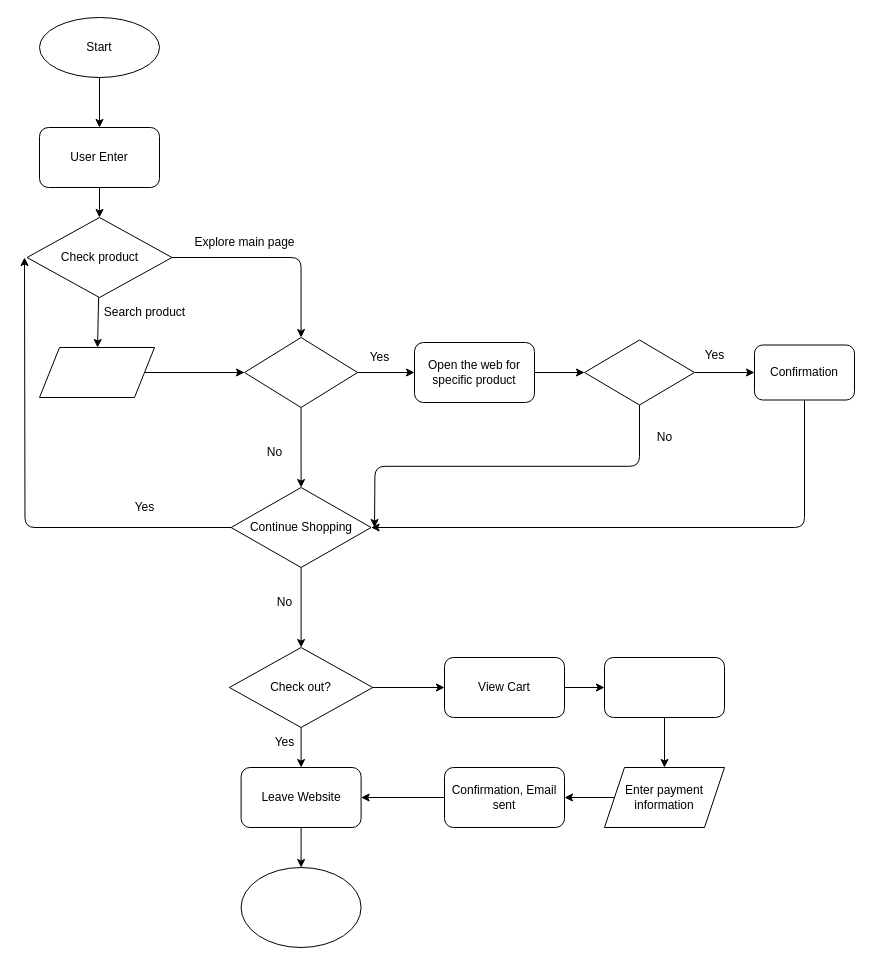
The diagram is 872 pixels wide and 965 high, and some of its shapes have lost their labels. The shapes that lost their labels are listed below. From the top down, each one's box as (x1, y1, x2, y2) in pixels, then its label:
(38, 346, 154, 398): provide input for search
(244, 336, 358, 408): View Specific Product
(584, 339, 694, 405): Add to Cart?
(604, 656, 724, 718): View Payment
(240, 866, 361, 948): End
